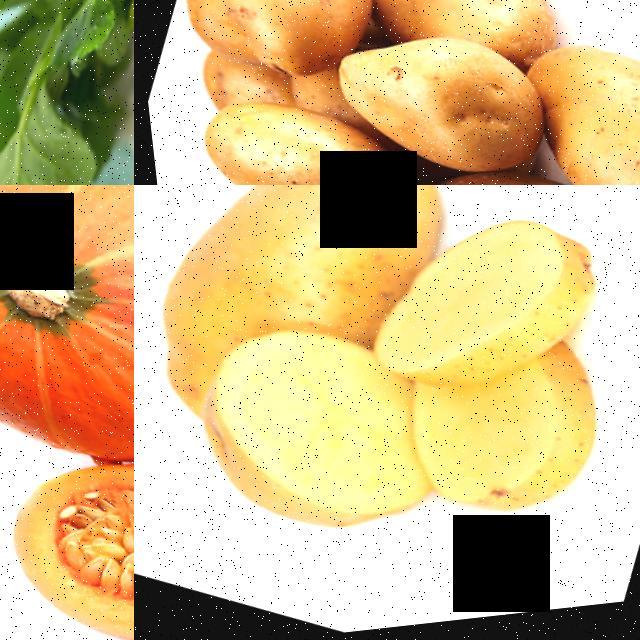potato: (149, 312, 449, 578), (343, 185, 610, 442), (143, 185, 448, 379), (314, 0, 560, 185), (160, 63, 428, 185), (151, 0, 385, 112), (322, 0, 586, 99), (501, 24, 640, 185)
pumpkin: (0, 185, 134, 543), (0, 365, 134, 640)
radishes: (0, 0, 134, 185)
